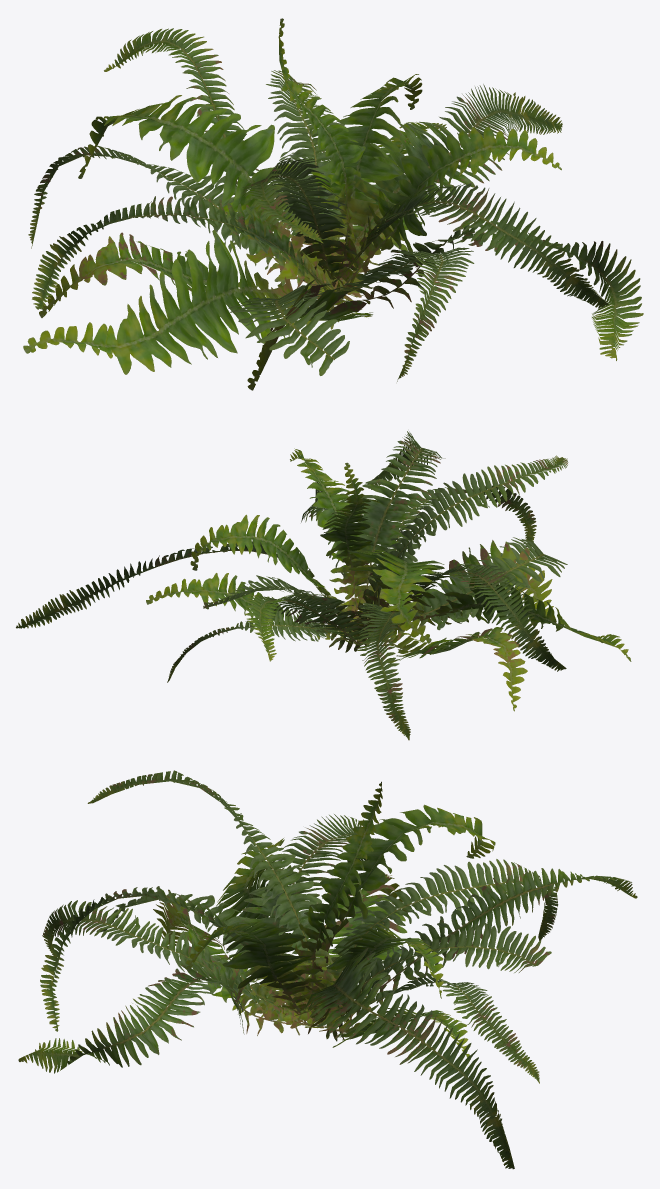
File: fern_02_c-v02.glb
3 views of the same model, one above another, from view 1: azimuth 30°, elevation 25°; view 2: azimuth 150°, elevation 25°; view 3: azimuth 270°, elevation 25° (orthographic). The views are drawn at different scales.
Visible parts, largest first — view 1: fern_02_c; view 2: fern_02_c; view 3: fern_02_c.
Boxes of the visible parts, box(x1,y1,x2,y2) form: fern_02_c: box(23, 18, 643, 390); fern_02_c: box(16, 431, 631, 740); fern_02_c: box(18, 770, 637, 1169).
Size of the model in its own units: 0.8743 by 0.349 by 0.7652.
1 material, 1 textured.
